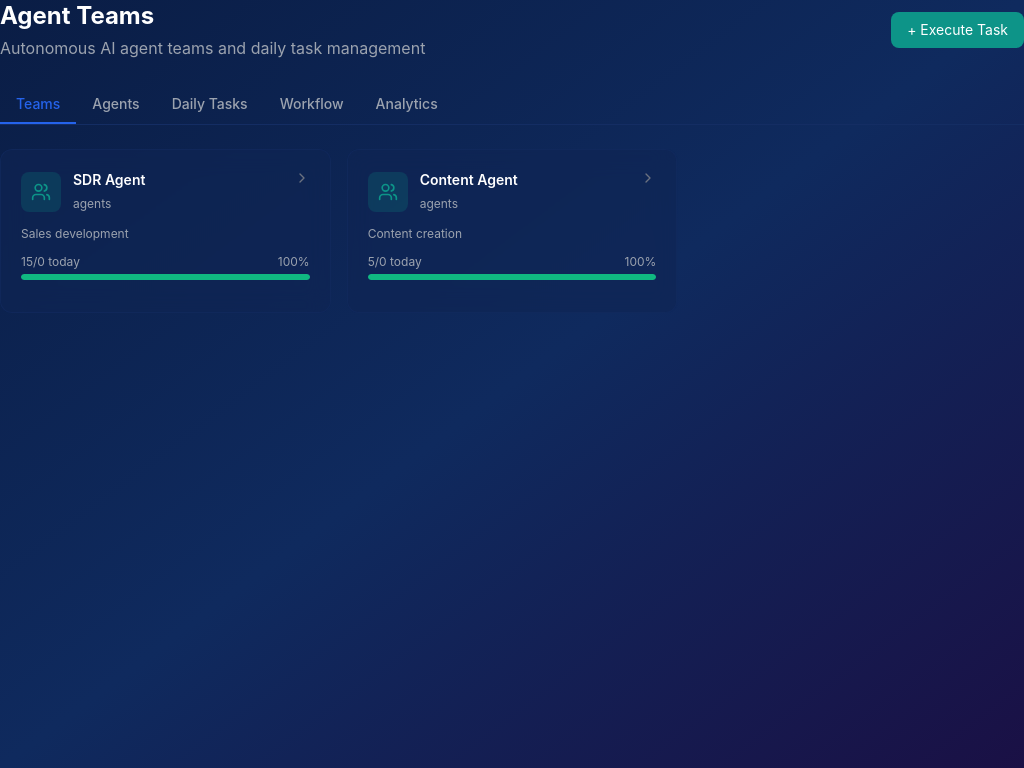
Agents › opens execution modal when button clicked
Click the button "+ Execute Task". click: (958, 30)
box: [891, 12, 1023, 48]
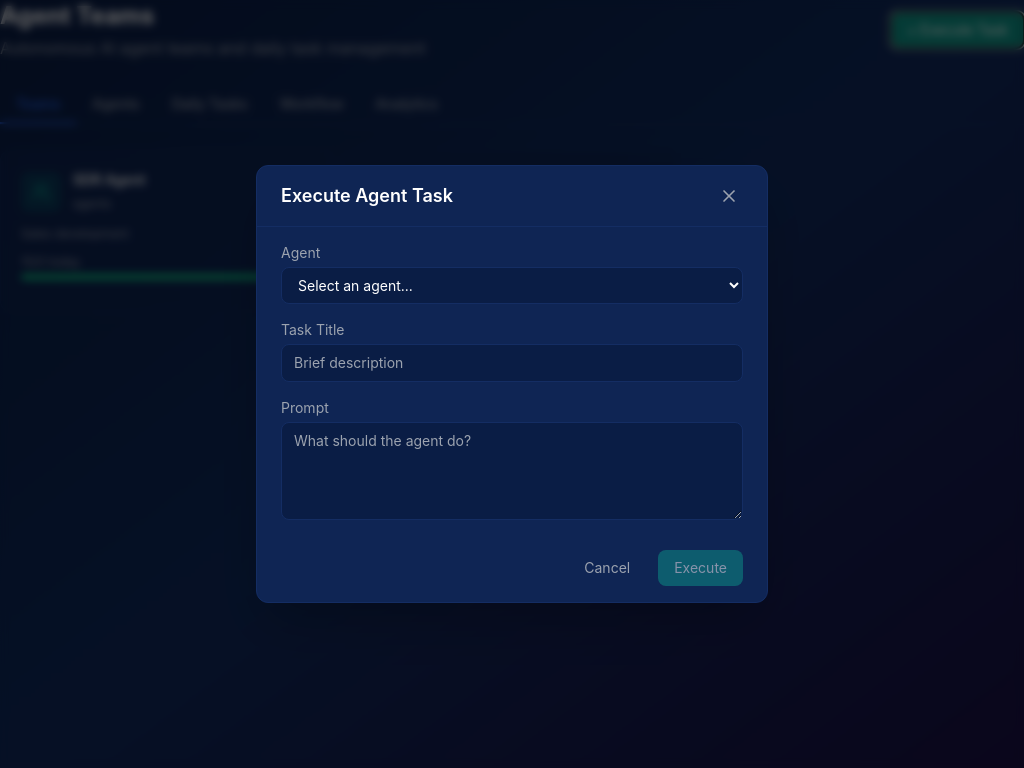
Check: the heading "Execute Agent Task" is shown, box [281, 182, 453, 210]
